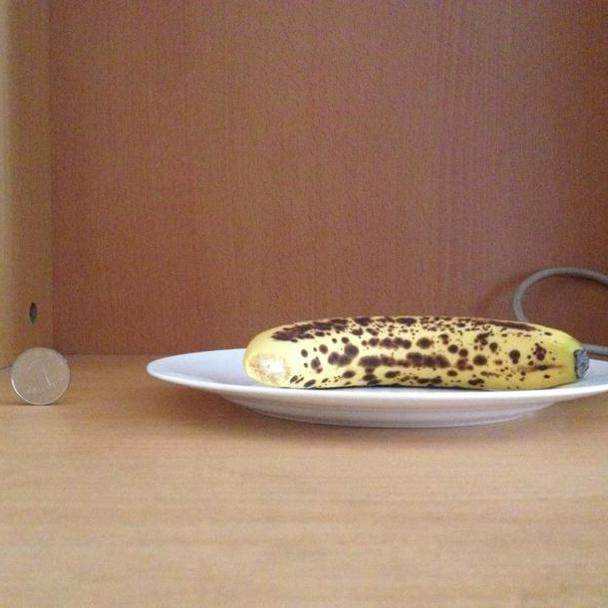banana: (236, 314, 587, 390)
